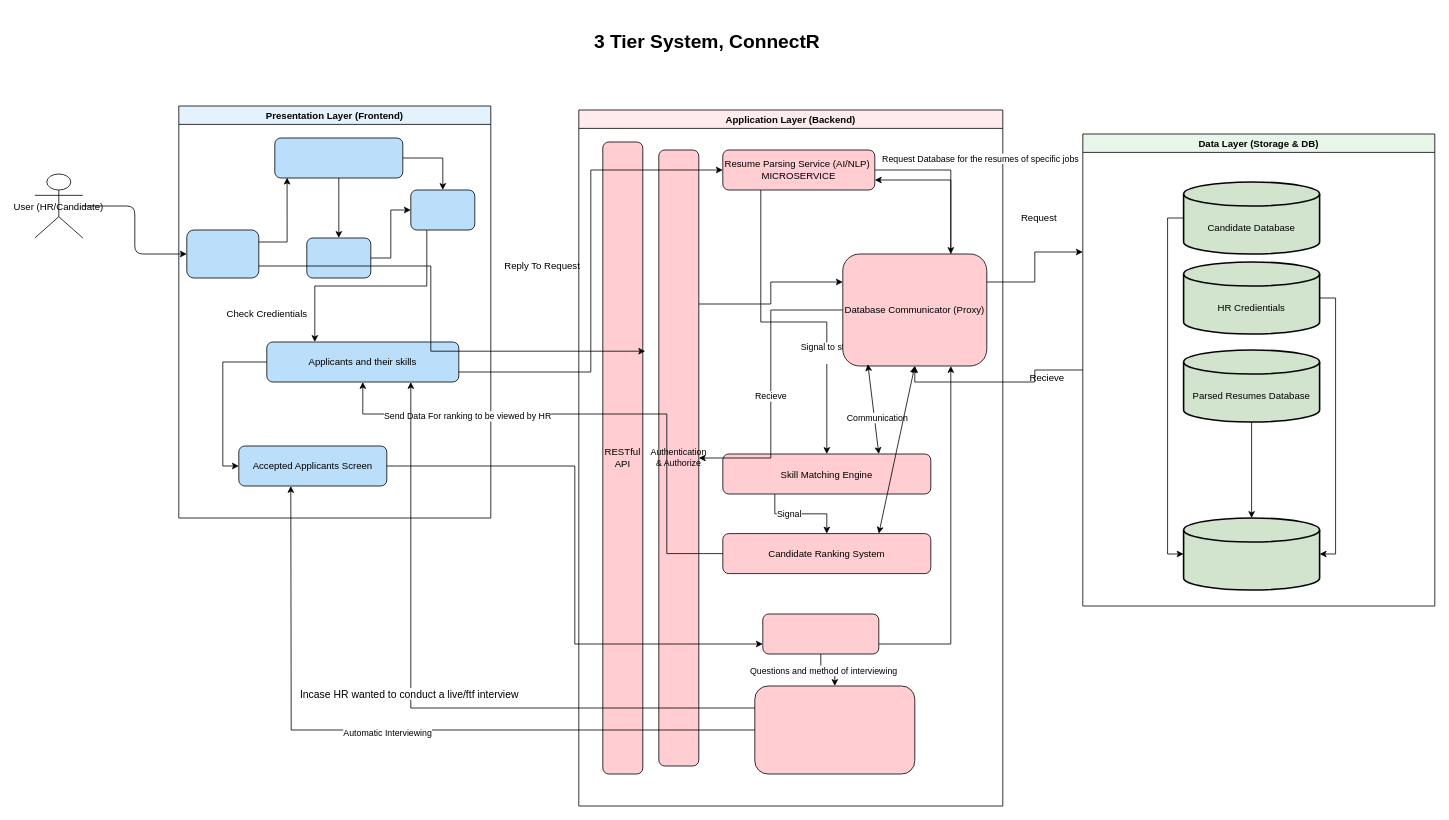
The diagram is 1449 pixels wide and 820 high, and some of its shapes have lost their labels. The shapes that lost their labels are listed below. From the top down, each one's centre as x and y in pixels, then its label:
[338,157]: HR Main Menu
[442,209]: Jobs
[222,253]: Login
[338,257]: Search
[1251,553]: Backup Database
[820,633]: Question Generation (AI/GPT) MICROSERVICE
[834,729]: Automatic testing with recordings of candidates (AI/GPT) MICROSERVICE
